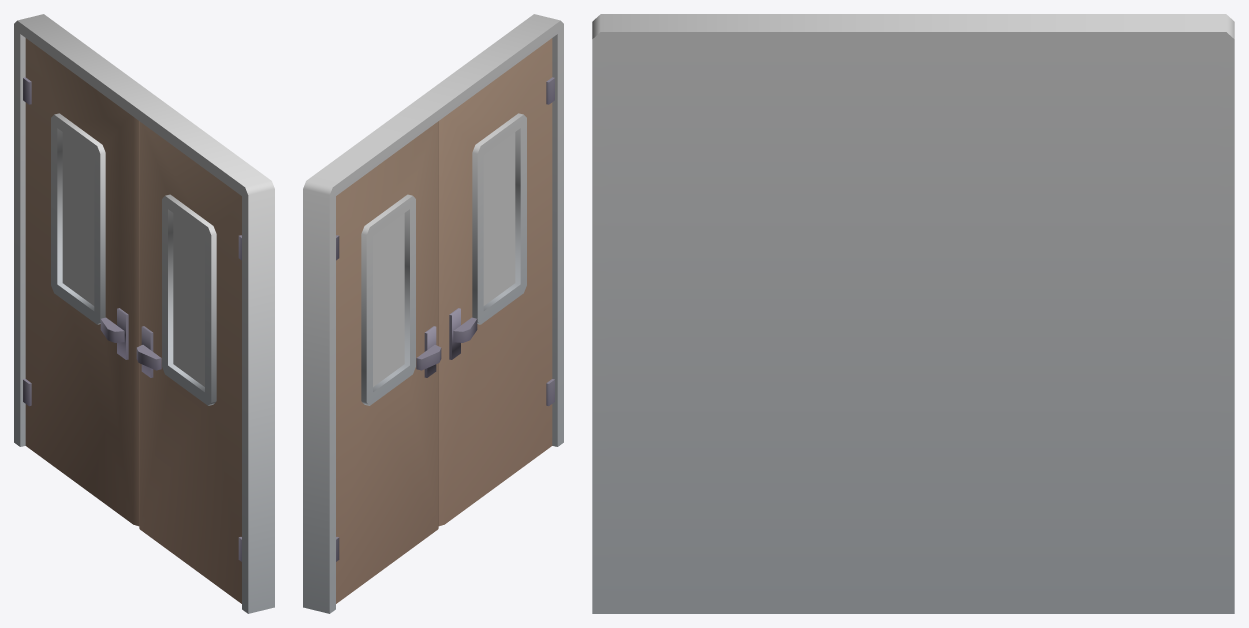
Rendered from door-double-small-window (%wall).glb.
3 views of the same model, side by side, from view 1: azimuth 30°, elevation 25°; view 2: azimuth 150°, elevation 25°; view 3: azimuth 270°, elevation 25° (orthographic). The views are drawn at different scales.
Visible parts, largest first — view 1: door-double-small-window (%wall); view 2: door-double-small-window (%wall); view 3: door-double-small-window (%wall).
Boxes of the visible parts, x1=… form: door-double-small-window (%wall): x1=14, y1=14, x2=274, y2=613; door-double-small-window (%wall): x1=303, y1=14, x2=563, y2=613; door-double-small-window (%wall): x1=592, y1=14, x2=1234, y2=613.
Bounding box in the file's own units: 0.1625 × 1.9 × 1.9.
